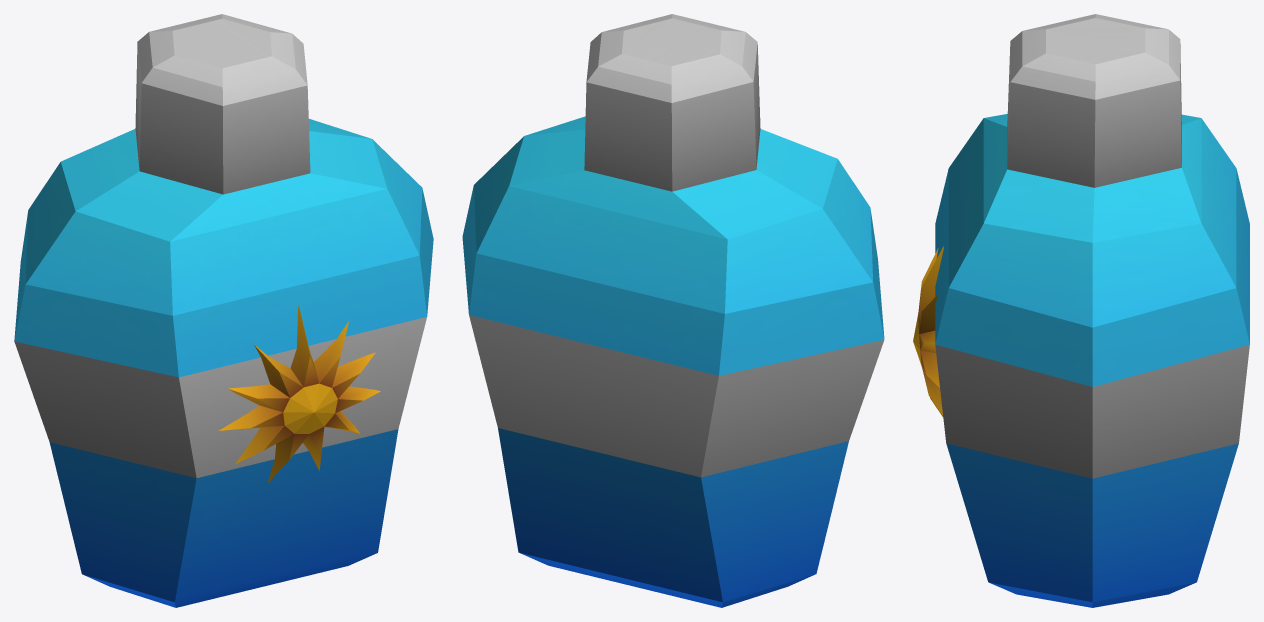
The model's file is bloqueadorSolarTapa.fbx.
3 renders of one model, left to right at view 1: azimuth 30°, elevation 25°; view 2: azimuth 150°, elevation 25°; view 3: azimuth 270°, elevation 25°, orthographic.
Parts seen in each view (by area): view 1: bloqueadorSolar.001; view 2: bloqueadorSolar.001; view 3: bloqueadorSolar.001.
Part boxes in pixels (<box>): bloqueadorSolar.001: <box>14,14,433,607</box>; bloqueadorSolar.001: <box>462,14,884,607</box>; bloqueadorSolar.001: <box>913,14,1249,607</box>.
Bounding box in the file's own units: 47.88 × 56.16 × 33.48.
Materials: 1 (1 with a texture image).
